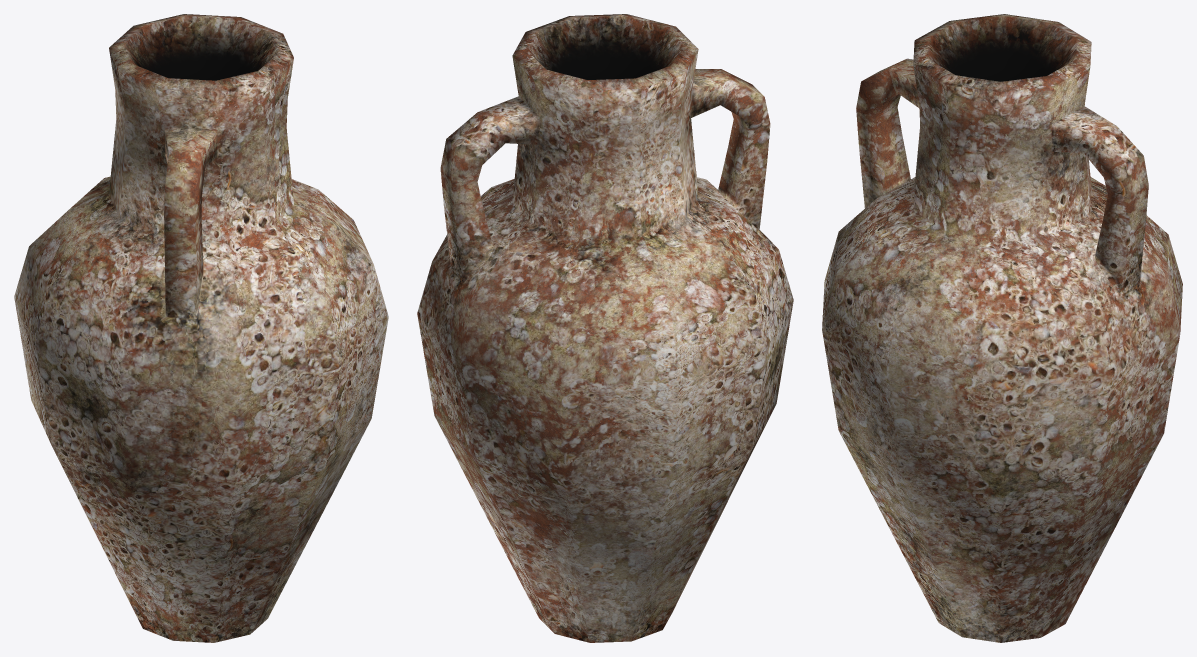
Rendered from amphora animated.fbx.
3 views of the same model, side by side, from view 1: azimuth 30°, elevation 25°; view 2: azimuth 150°, elevation 25°; view 3: azimuth 270°, elevation 25° (orthographic).
Visible parts, largest first — view 1: Object002; view 2: Object002; view 3: Object002.
Part boxes in pixels (x1,y1,x2,y2): Object002: (14,14,388,642); Object002: (417,14,793,642); Object002: (822,14,1182,642).
Size of the model in its own units: 9.18 by 15.39 by 8.79.
1 material, 1 textured.
